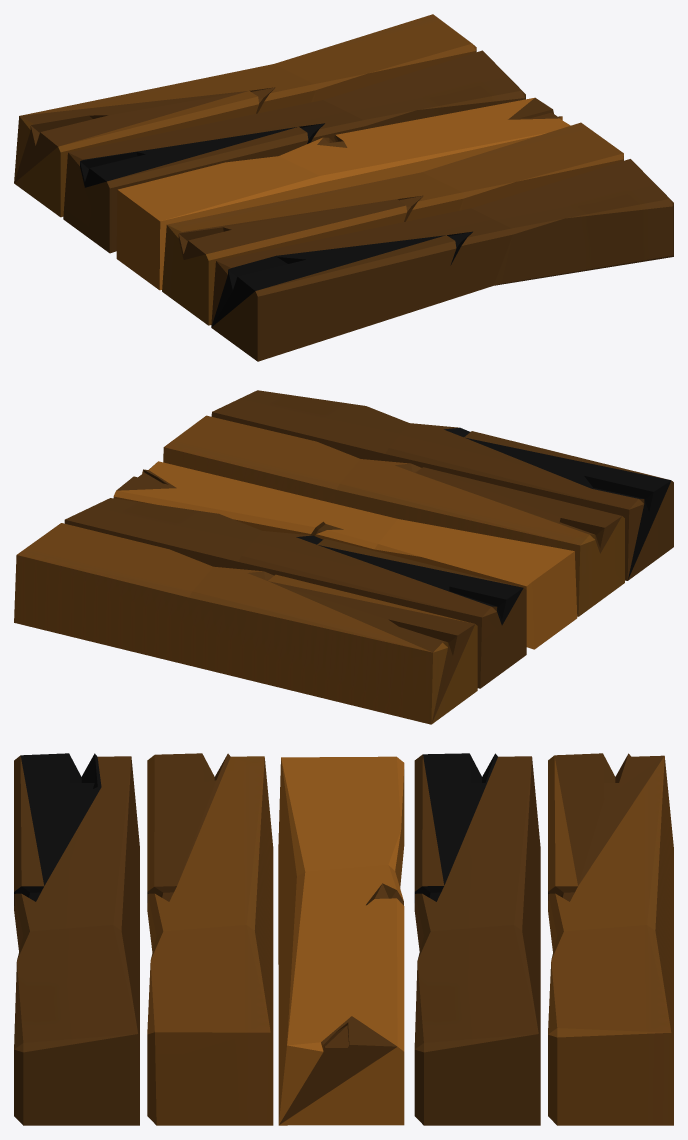
Rendered from MadeiraChao1.glb.
The picture shows the model from 3 angles, top to bottom: view 1: azimuth 30°, elevation 25°; view 2: azimuth 150°, elevation 25°; view 3: azimuth 270°, elevation 25°; orthographic projection. The views are drawn at different scales.
Parts seen in each view (by area): view 1: MadeiraChao1; view 2: MadeiraChao1; view 3: MadeiraChao1.
Part boxes in pixels (x1,y1,x2,y2): MadeiraChao1: (14, 14, 673, 361); MadeiraChao1: (14, 390, 673, 724); MadeiraChao1: (14, 753, 673, 1125).
Bounding box in the file's own units: 1.96 × 0.3134 × 1.97.
Materials: 1 (1 with a texture image).
